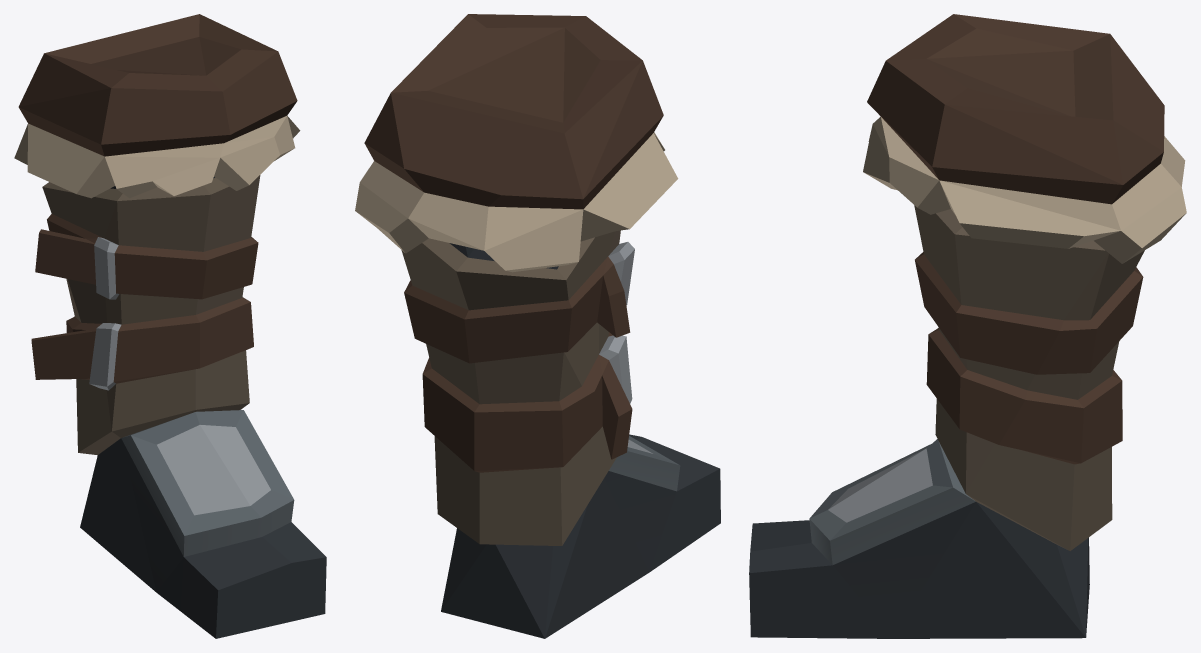
File: Chr_LegLeft_Male_09_Static.fbx
3 renders of one model, left to right at view 1: azimuth 30°, elevation 25°; view 2: azimuth 150°, elevation 25°; view 3: azimuth 270°, elevation 25°, orthographic. The views are drawn at different scales.
Parts seen in each view (by area): view 1: Chr_LegLeft_Male_09_Static; view 2: Chr_LegLeft_Male_09_Static; view 3: Chr_LegLeft_Male_09_Static.
Part boxes in pixels (box(x1,y1,x2,y2)): Chr_LegLeft_Male_09_Static: box(14, 14, 326, 638); Chr_LegLeft_Male_09_Static: box(355, 14, 720, 638); Chr_LegLeft_Male_09_Static: box(749, 14, 1186, 638).
Bounding box in the file's own units: 0.196 × 0.404 × 0.2884.
